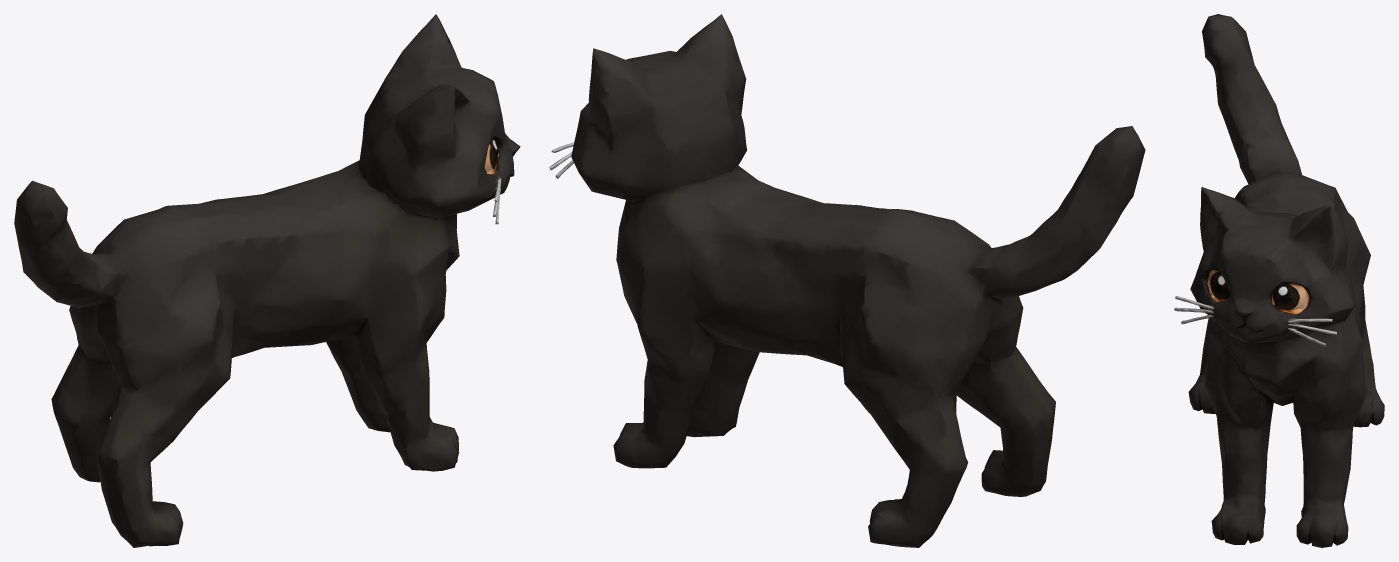
Rendered from PINROW.glb.
3 renders of one model, left to right at view 1: azimuth 30°, elevation 25°; view 2: azimuth 150°, elevation 25°; view 3: azimuth 270°, elevation 25°, orthographic. The views are drawn at different scales.
Visible parts, largest first — view 1: tripo_node_7f9668f4-f463-4099-8c25-001d2797edbe; view 2: tripo_node_7f9668f4-f463-4099-8c25-001d2797edbe; view 3: tripo_node_7f9668f4-f463-4099-8c25-001d2797edbe.
Boxes of the visible parts, left/top/right/bottom form: tripo_node_7f9668f4-f463-4099-8c25-001d2797edbe: left=14, top=14, right=520, bottom=547; tripo_node_7f9668f4-f463-4099-8c25-001d2797edbe: left=549, top=14, right=1145, bottom=547; tripo_node_7f9668f4-f463-4099-8c25-001d2797edbe: left=1174, top=14, right=1384, bottom=547.
Size of the model in its own units: 1.36 by 1 by 0.5359.
1 material, 1 textured.
